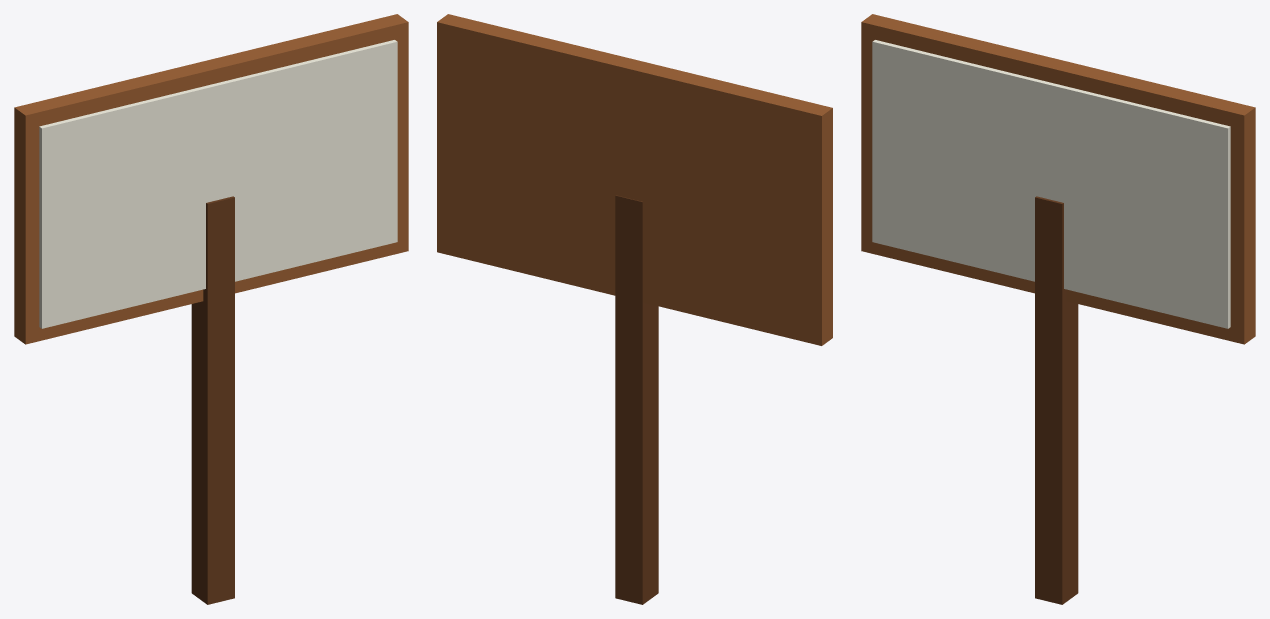
The model's file is sign.glb.
The picture shows the model from 3 angles, left to right: view 1: azimuth 30°, elevation 25°; view 2: azimuth 150°, elevation 25°; view 3: azimuth 330°, elevation 25°; orthographic projection.
Parts seen in each view (by area): view 1: DistanceSign; view 2: DistanceSign; view 3: DistanceSign.
Part boxes in pixels (bbox=[...]): DistanceSign: bbox=[14, 14, 408, 604]; DistanceSign: bbox=[437, 14, 832, 604]; DistanceSign: bbox=[861, 14, 1255, 604].
Size of the model in its own units: 1.4 by 1.85 by 0.1.
